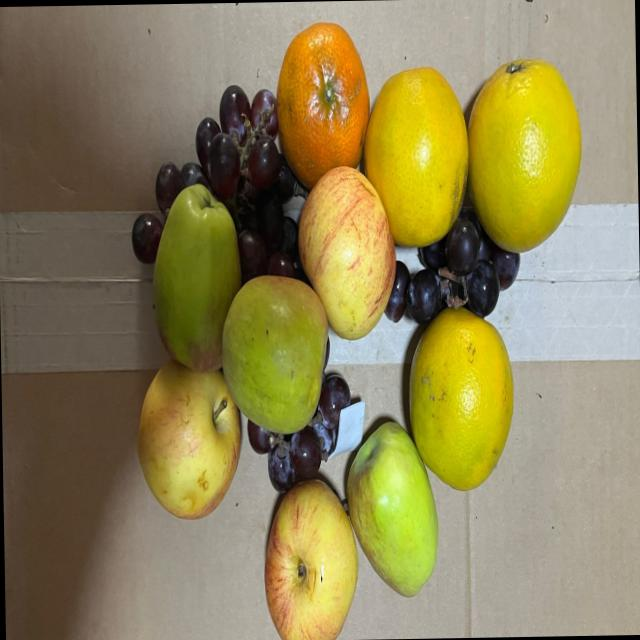hoja: (330, 390, 370, 460)
